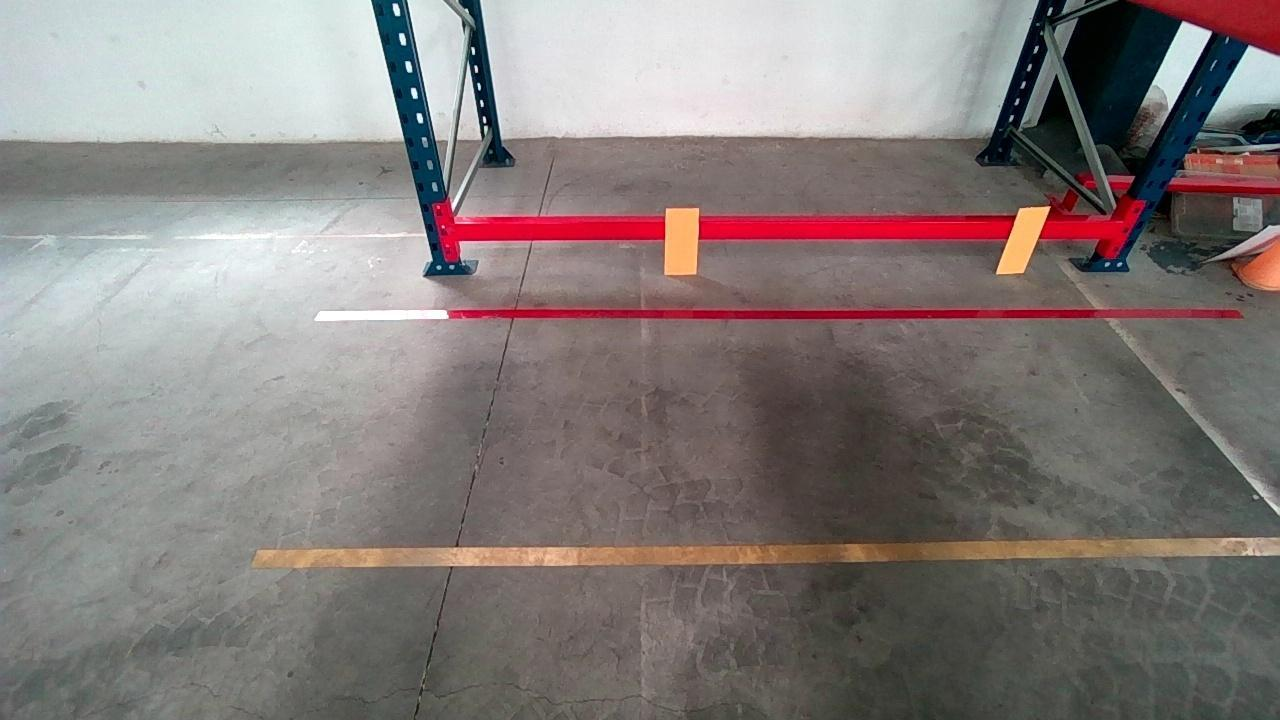h_rack: (452, 221, 1120, 242)
orange_strip: (996, 206, 1052, 273), (665, 207, 699, 273)
red_line: (307, 308, 1247, 321)
yellow_line: (249, 539, 1280, 569)
